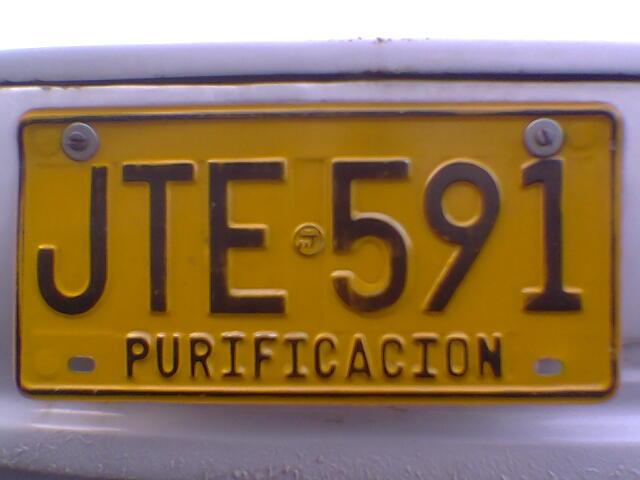placas: (10, 99, 627, 411)
